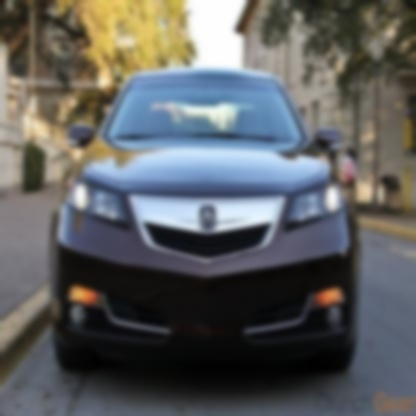Vehicle: (49, 70, 364, 376)
